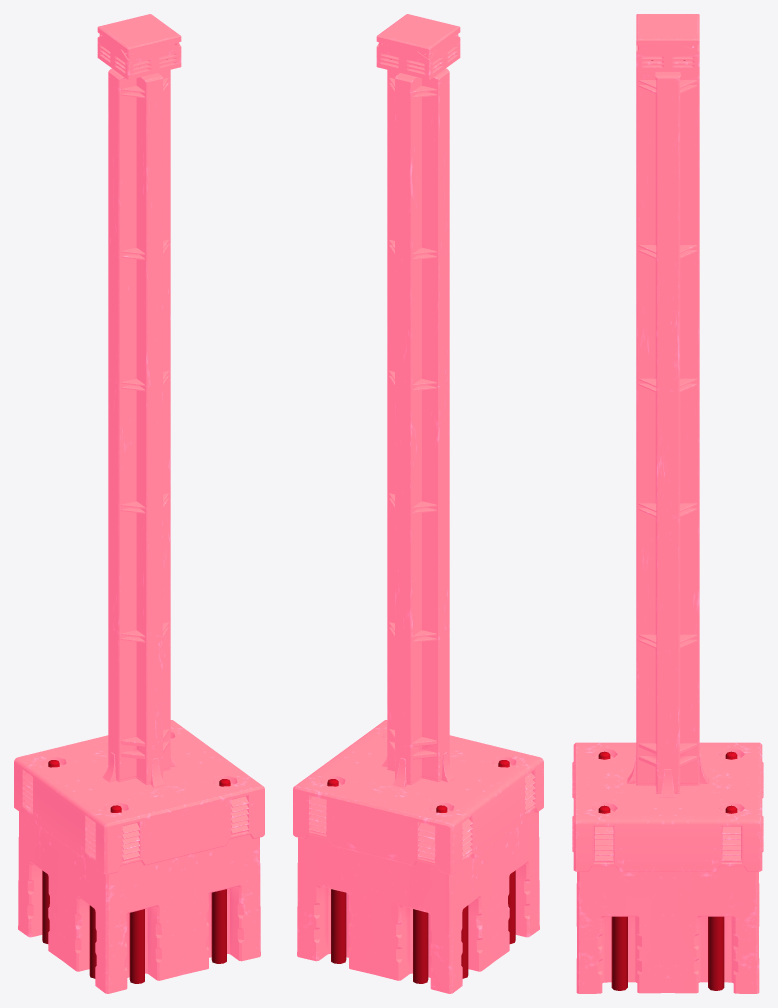
Rendered from Pillar.fbx.
3 renders of one model, left to right at view 1: azimuth 30°, elevation 25°; view 2: azimuth 150°, elevation 25°; view 3: azimuth 270°, elevation 25°, orthographic.
Visible parts, largest first — view 1: pillar-top.002; view 2: pillar-top.002; view 3: pillar-top.002.
Part boxes in pixels (x1,y1,x2,y2): pillar-top.002: [14, 14, 264, 993]; pillar-top.002: [293, 14, 543, 993]; pillar-top.002: [572, 14, 763, 993].
Bounding box in the file's own units: 3906 × 21031 × 3926.
